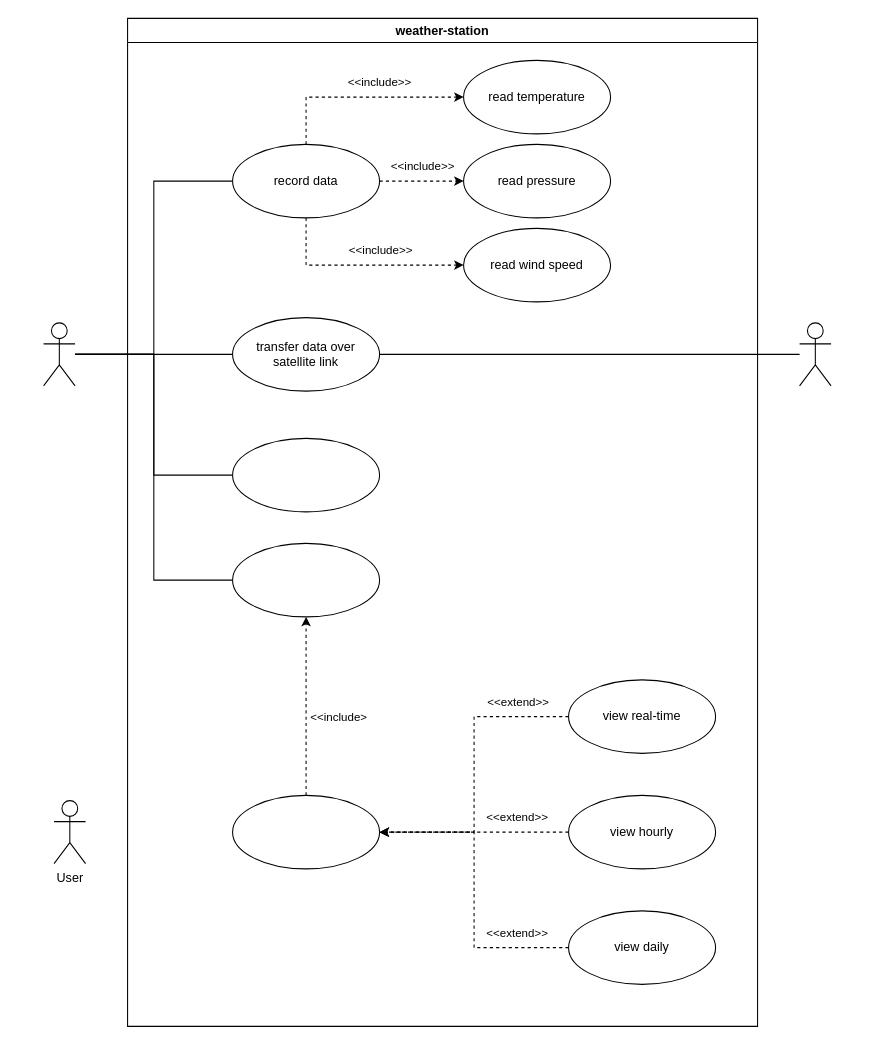
The diagram is 888 pixels wide and 1045 high, and some of its shapes have lost their labels. Here are the shapes that lost their labels. From the top down, the box of each, then its label:
(43, 322, 75, 386): microcontroller
(799, 322, 831, 386): weather information service
(232, 437, 380, 512): save data to memory
(232, 542, 380, 617): get data from memory
(232, 794, 380, 869): view data
